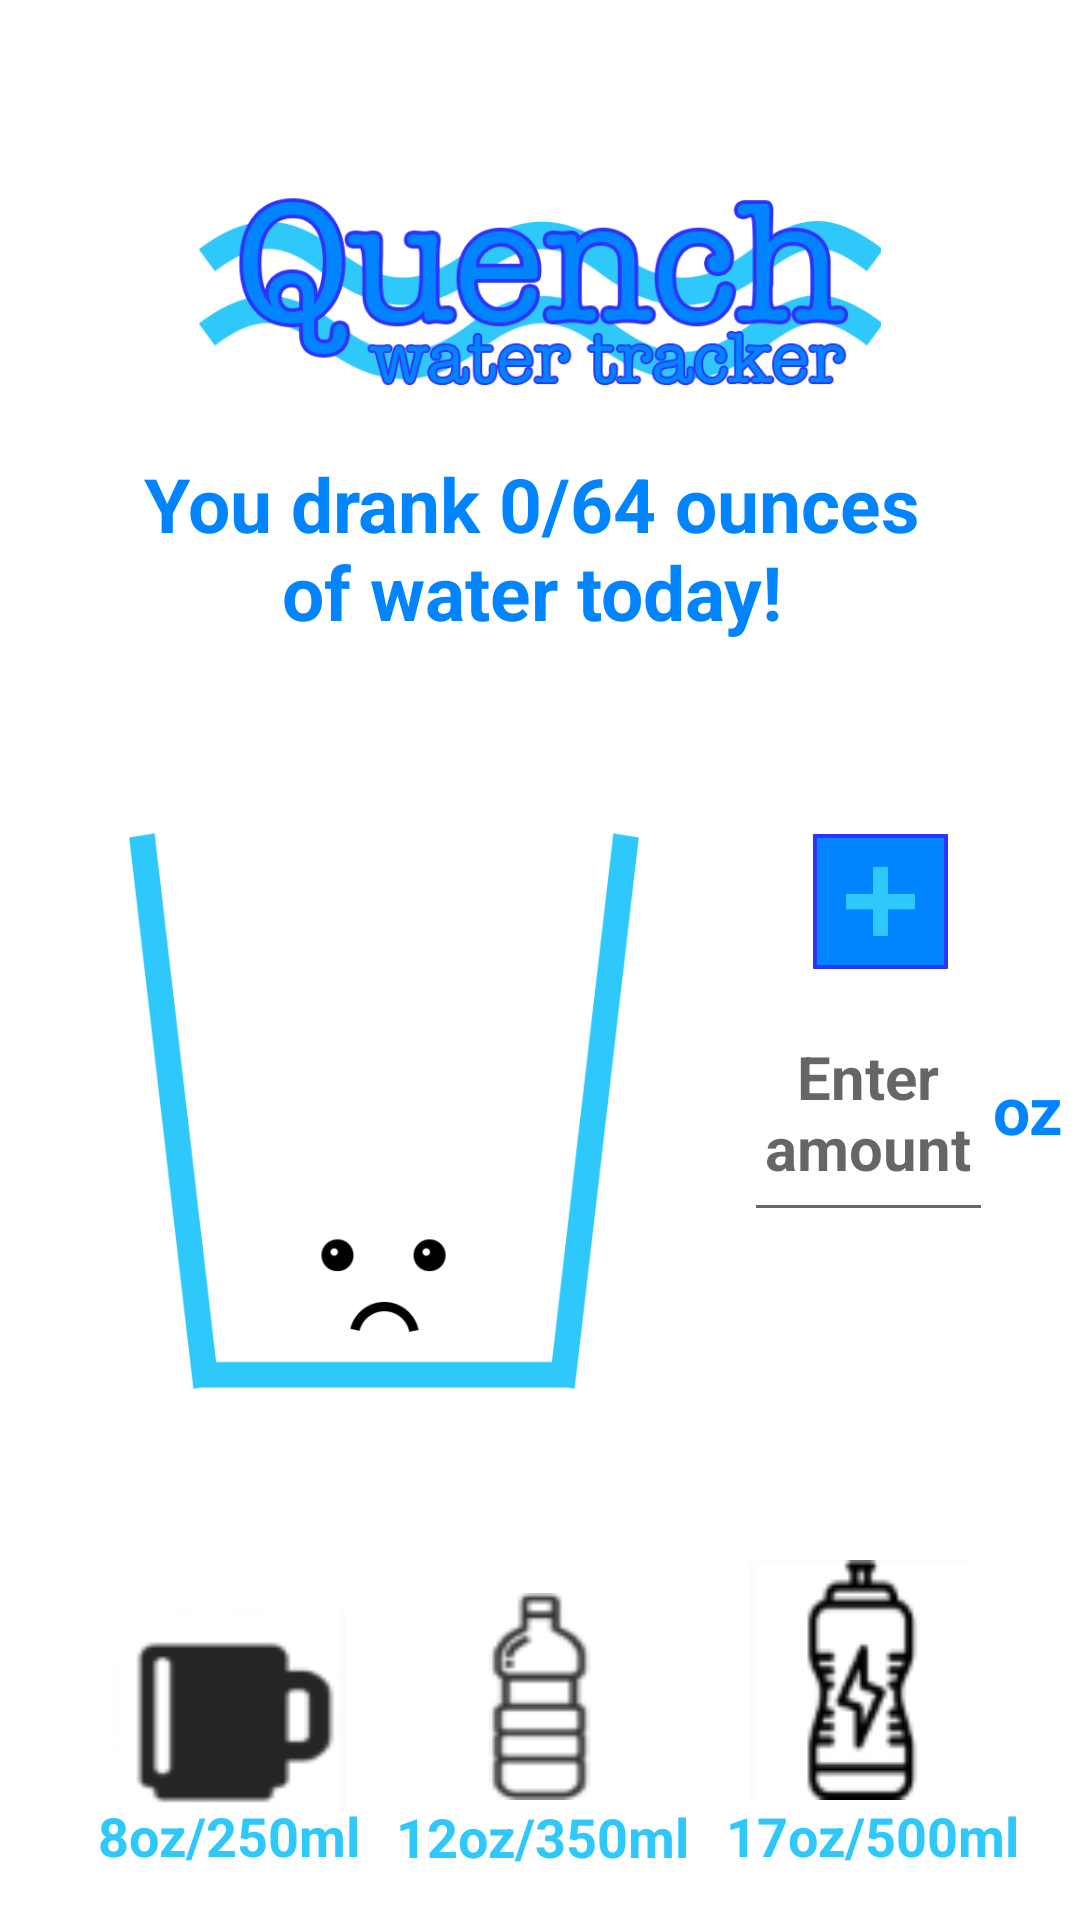

Icon click points for this 1080px×1920px phone screenshot, format (x=x, y=y):
bottle: (x=540, y=1696)
mug: (x=235, y=1722)
plus: (x=880, y=901)
sport: (x=862, y=1680)
